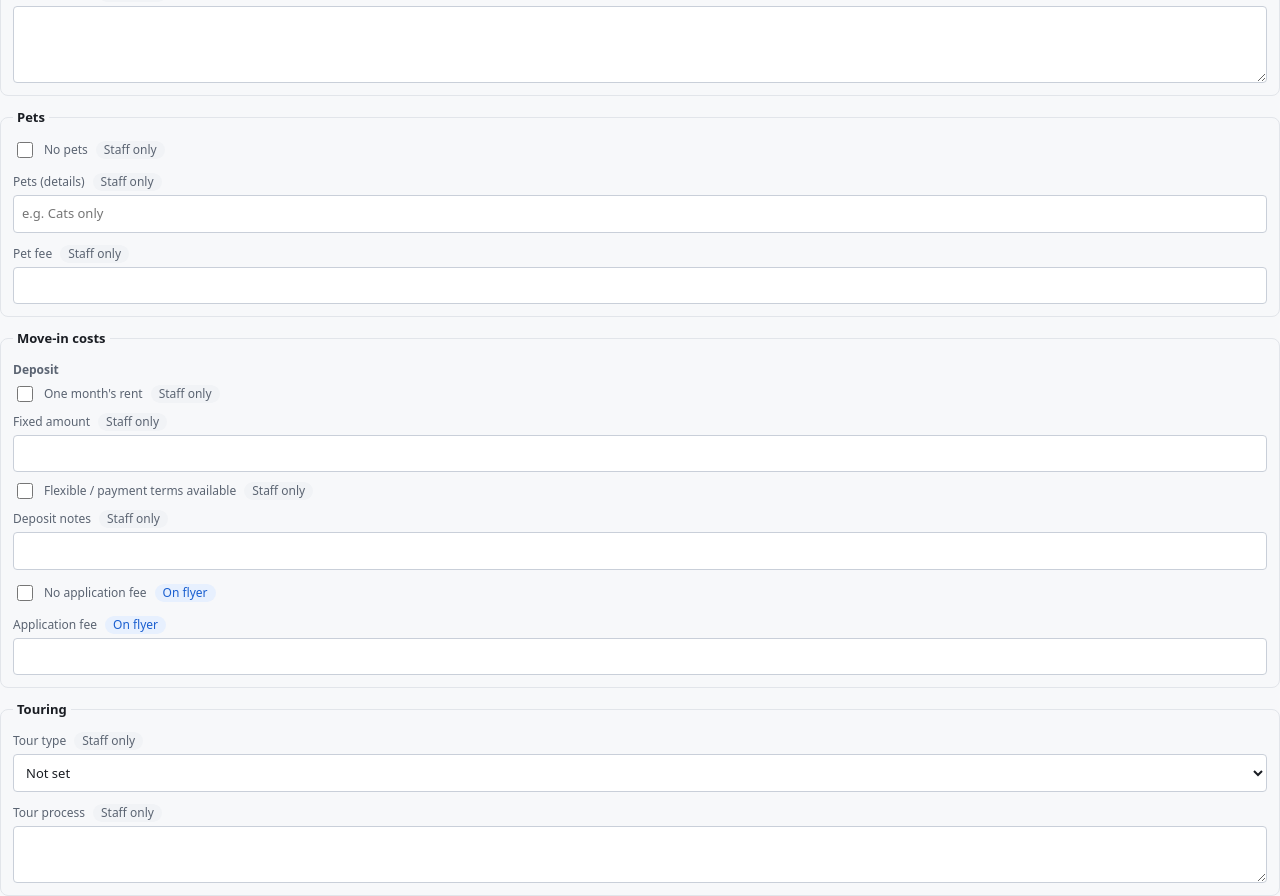
it: RequirementsFields › typing an amount that starts with 0 ("0.50") never ticks No application fee or disables the box
(page scrolled)
Type "0.50" into the number field labelled "Application fee" at x=640, y=656, box x1=13 y1=638 x2=1267 y2=675
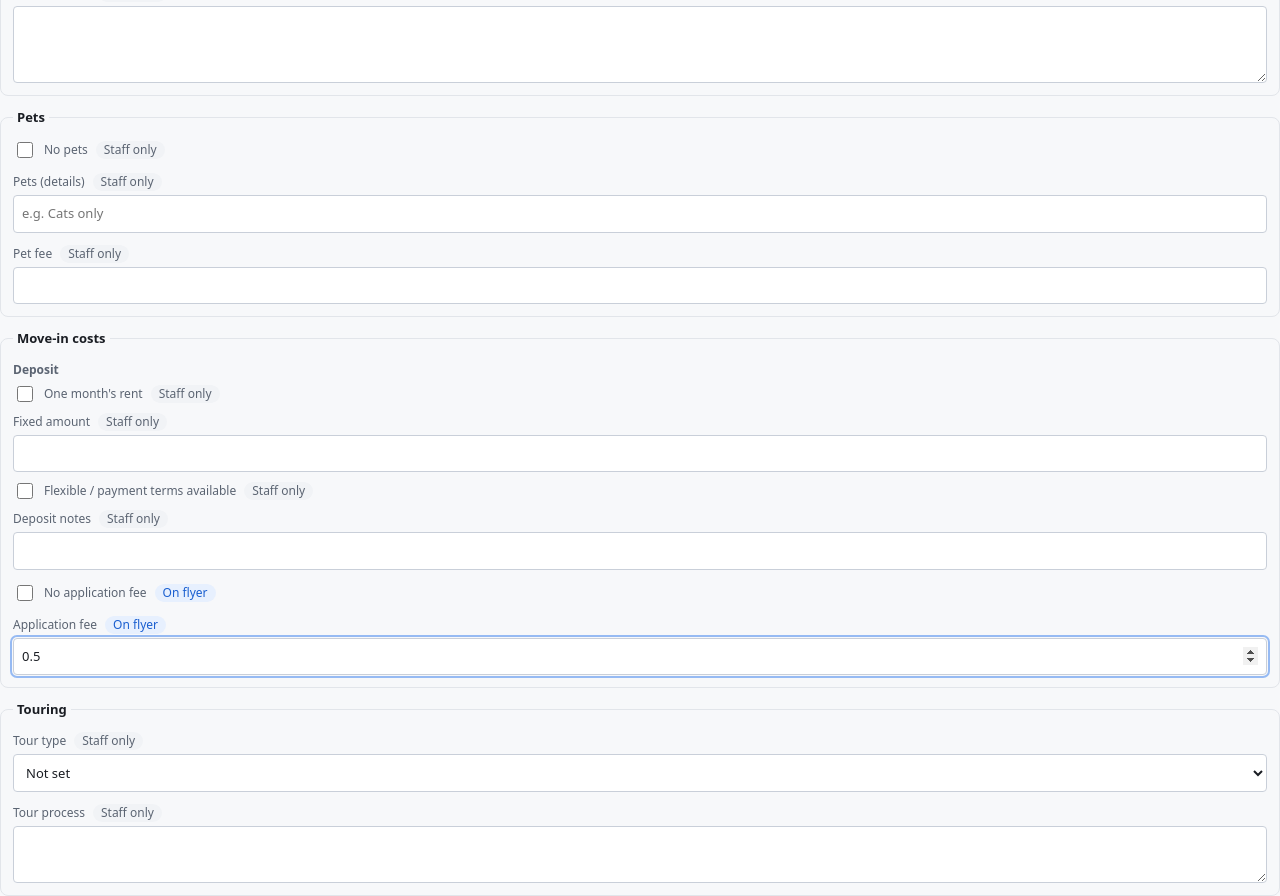
Expected: the checkbox labelled "No application fee" is not checked, x1=17 y1=584 x2=33 y2=600
Expected: the number field labelled "Application fee" holds "0.5", x1=13 y1=638 x2=1267 y2=675
